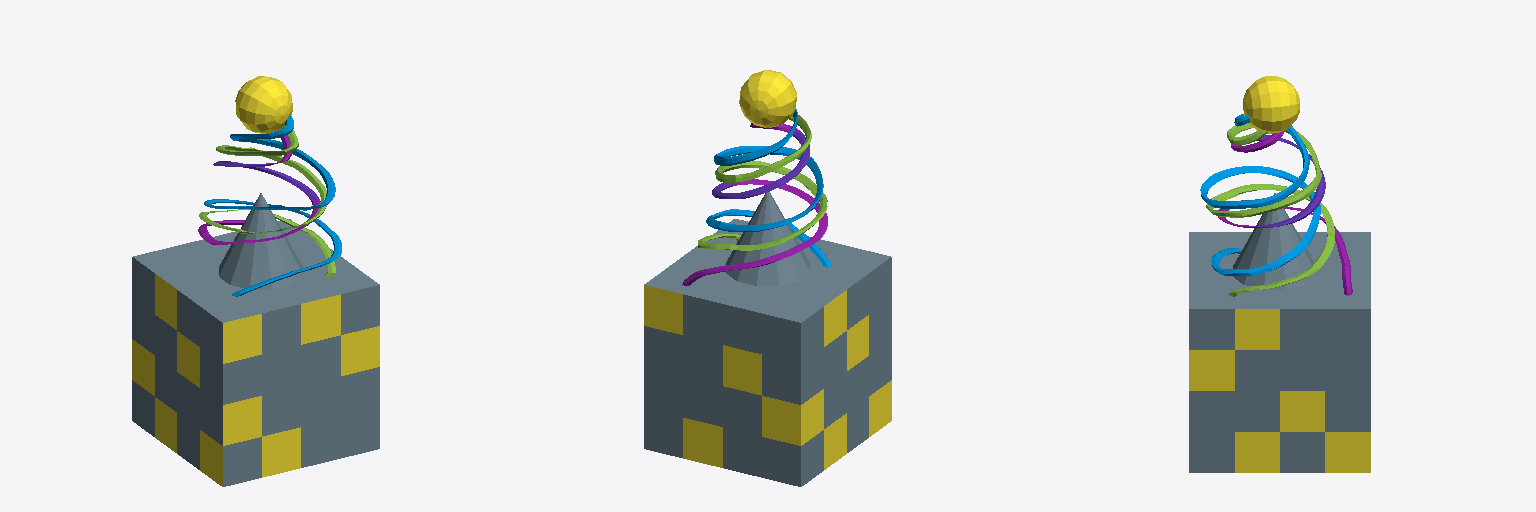
File: model-triangulated.obj
3 renders of one model, left to right at view 1: azimuth 30°, elevation 25°; view 2: azimuth 150°, elevation 25°; view 3: azimuth 270°, elevation 25°, orthographic.
Parts seen in each view (by area): view 1: group[number redacted], group[number redacted], group[number redacted], group[number redacted], group[number redacted], group[number redacted]; view 2: group[number redacted], group[number redacted], group[number redacted], group[number redacted], group[number redacted], group[number redacted]; view 3: group[number redacted], group[number redacted], group[number redacted], group[number redacted], group[number redacted], group[number redacted].
Part boxes in pixels (bbox=[...]): group[number redacted]: bbox=[132, 219, 379, 486]; group[number redacted]: bbox=[219, 193, 302, 289]; group[number redacted]: bbox=[204, 115, 341, 296]; group[number redacted]: bbox=[235, 76, 292, 133]; group[number redacted]: bbox=[199, 126, 335, 277]; group[number redacted]: bbox=[198, 128, 320, 244]; group[number redacted]: bbox=[644, 219, 891, 486]; group[number redacted]: bbox=[726, 192, 809, 285]; group[number redacted]: bbox=[706, 109, 831, 267]; group[number redacted]: bbox=[682, 123, 827, 285]; group[number redacted]: bbox=[698, 114, 827, 250]; group[number redacted]: bbox=[739, 70, 796, 127]; group[number redacted]: bbox=[1189, 232, 1370, 472]; group[number redacted]: bbox=[1200, 114, 1320, 275]; group[number redacted]: bbox=[1233, 193, 1316, 289]; group[number redacted]: bbox=[1206, 123, 1334, 296]; group[number redacted]: bbox=[1243, 76, 1299, 133]; group[number redacted]: bbox=[1218, 131, 1352, 295].
Bounding box in the file's own units: 2.01 × 4.37 × 2.01.